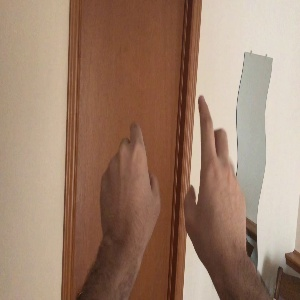hand: (184, 97, 247, 251), (100, 121, 161, 238)
